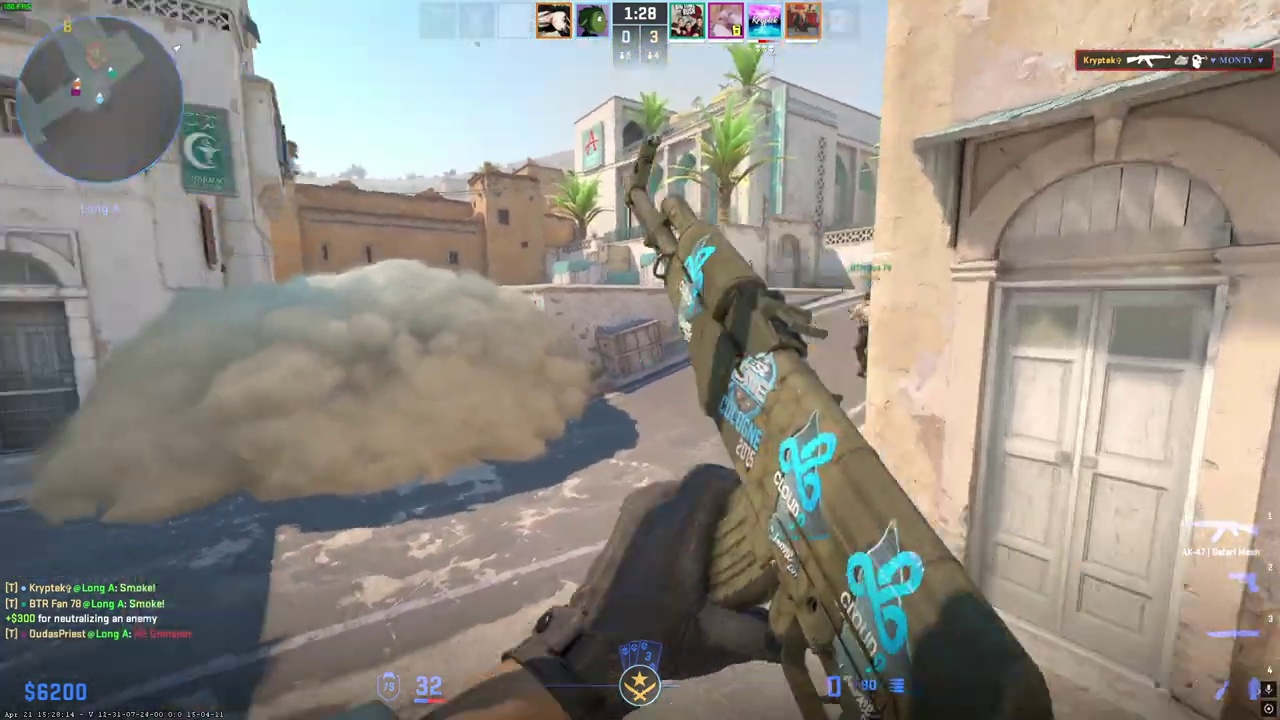Terrorist: (849, 291, 874, 378)
